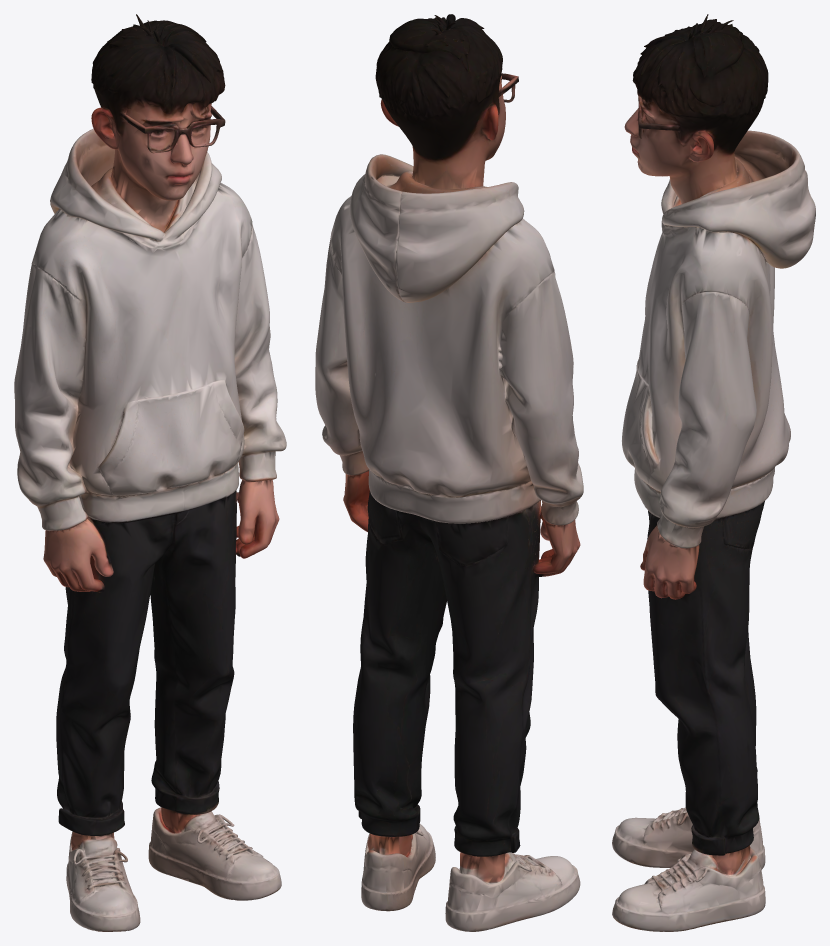
3 views of the same model, side by side, from view 1: azimuth 30°, elevation 25°; view 2: azimuth 150°, elevation 25°; view 3: azimuth 270°, elevation 25° (orthographic). The views are drawn at different scales.
Parts seen in each view (by area): view 1: node_0; view 2: node_0; view 3: node_0.
Boxes of the visible parts, x1,y1,x2,y2 form: node_0: (14, 14, 286, 931); node_0: (315, 14, 583, 931); node_0: (612, 14, 815, 931).
Size of the model in its own units: 0.3586 by 1.17 by 0.2479.
Materials: 1 (1 with a texture image).
